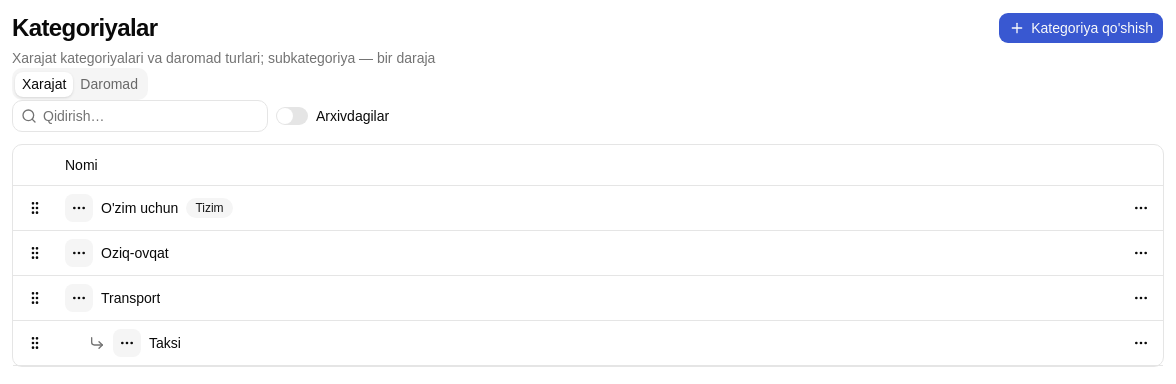
it: CategoriesPage (E22-T03) › tizim kategoriyasi — arxiv, o'chirish, birlashtirish va subkategoriya yo'q
Click the button named "O'zim uchun: amallar" at {"x": 1141, "y": 208}, box x1=1127 y1=194 x2=1155 y2=222
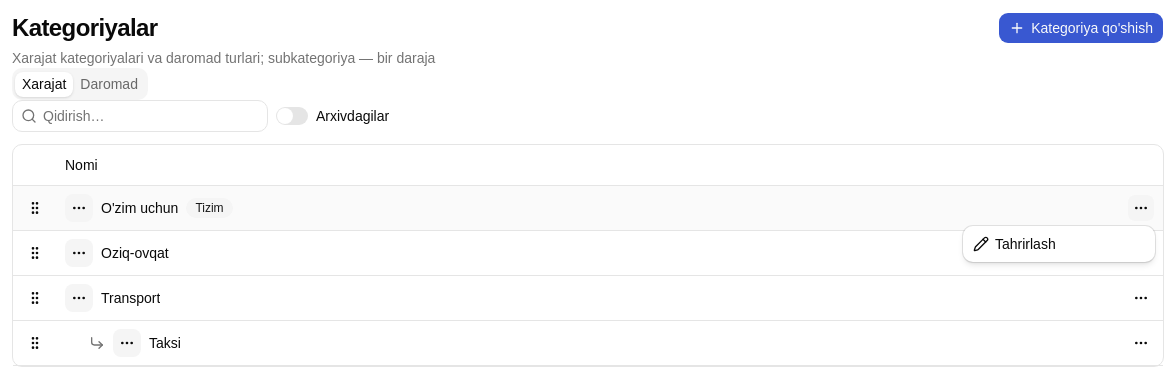
Expected: the menu item "Tahrirlash" is shown, x1=973 y1=236 x2=1056 y2=252
